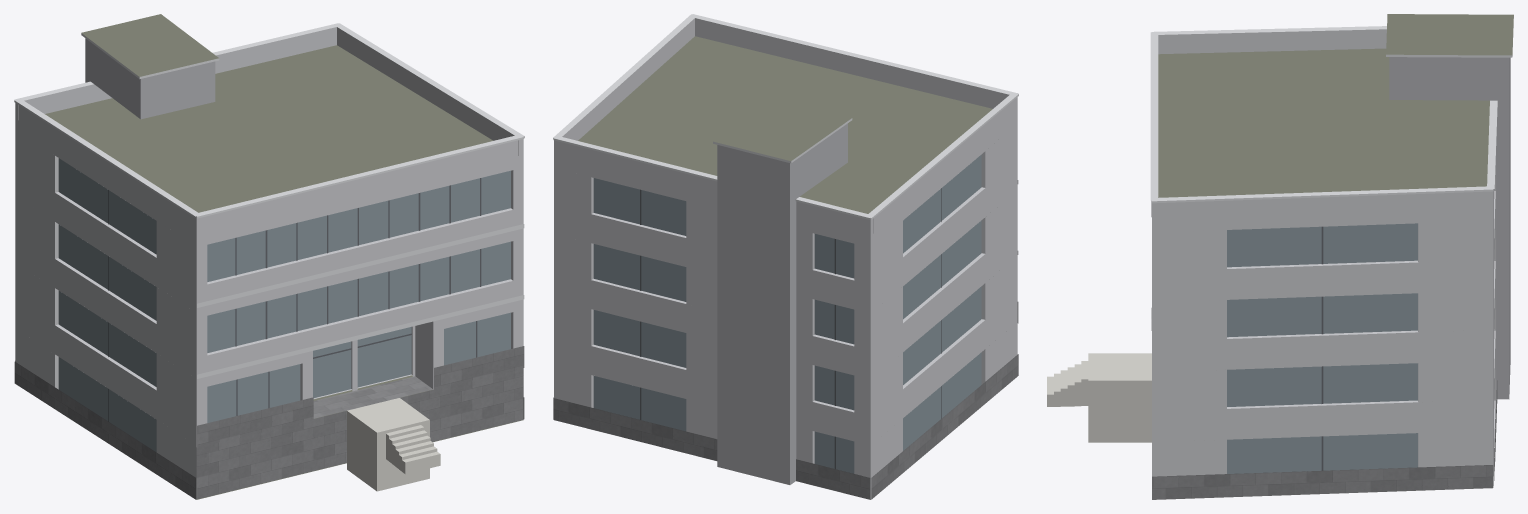
The picture shows the model from 3 angles, left to right: view 1: azimuth 30°, elevation 25°; view 2: azimuth 150°, elevation 25°; view 3: azimuth 270°, elevation 25°; orthographic projection. The views are drawn at different scales.
Visible parts, largest first — view 1: b141__wall, b141__glass, b141__roof, b141__base, b141__parapet, b141__trim, b141__entranceStair, b141__wall2, b141__frame; view 2: b141__wall, b141__roof, b141__glass, b141__wall2, b141__parapet, b141__base, b141__trim, b141__frame; view 3: b141__wall, b141__roof, b141__glass, b141__parapet, b141__wall2, b141__base, b141__entranceStair, b141__trim.
Boxes of the visible parts, x1=… form: b141__wall: x1=15, y1=118, x2=523, y2=499; b141__glass: x1=58, y1=158, x2=510, y2=452; b141__roof: x1=45, y1=14, x2=523, y2=499; b141__base: x1=14, y1=346, x2=524, y2=499; b141__parapet: x1=15, y1=27, x2=523, y2=234; b141__trim: x1=14, y1=23, x2=524, y2=378; b141__entranceStair: x1=347, y1=398, x2=440, y2=491; b141__wall2: x1=85, y1=38, x2=215, y2=119; b141__frame: x1=108, y1=178, x2=481, y2=421; b141__wall: x1=554, y1=112, x2=1017, y2=499; b141__roof: x1=578, y1=36, x2=992, y2=499; b141__glass: x1=593, y1=154, x2=981, y2=473; b141__wall2: x1=717, y1=123, x2=847, y2=484; b141__parapet: x1=554, y1=18, x2=1017, y2=235; b141__base: x1=553, y1=302, x2=1018, y2=499; b141__trim: x1=553, y1=14, x2=1018, y2=254; b141__frame: x1=640, y1=188, x2=941, y2=469; b141__wall: x1=1152, y1=148, x2=1496, y2=485; b141__roof: x1=1156, y1=14, x2=1513, y2=499; b141__glass: x1=1227, y1=223, x2=1417, y2=473; b141__parapet: x1=1151, y1=29, x2=1493, y2=219; b141__wall2: x1=1389, y1=57, x2=1510, y2=399; b141__base: x1=1151, y1=308, x2=1497, y2=499; b141__entranceStair: x1=1047, y1=353, x2=1151, y2=442; b141__trim: x1=1150, y1=16, x2=1513, y2=203.
Bounding box in the file's own units: 19.67 × 18.14 × 21.79.
Materials: 10 (1 with a texture image).
